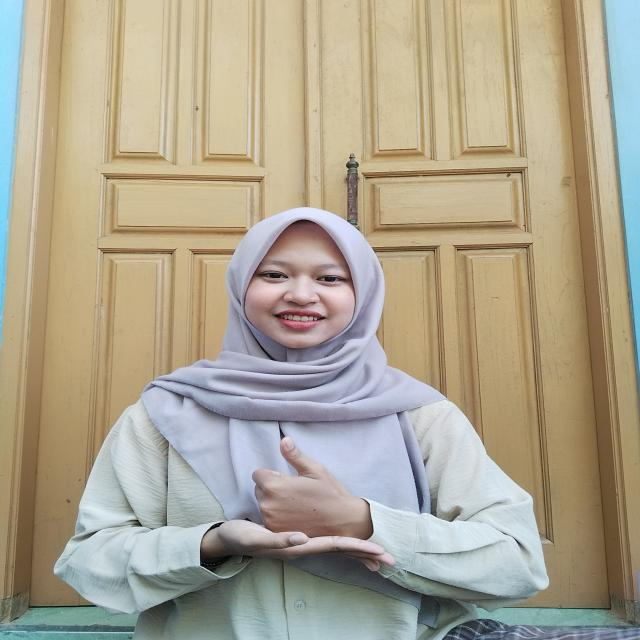cantik: (185, 425, 402, 573)
